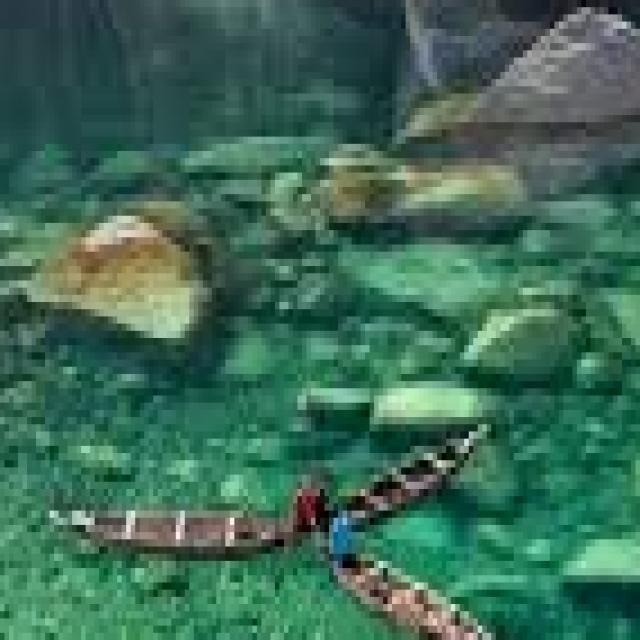-: (496, 201, 640, 640), (0, 0, 144, 187)
